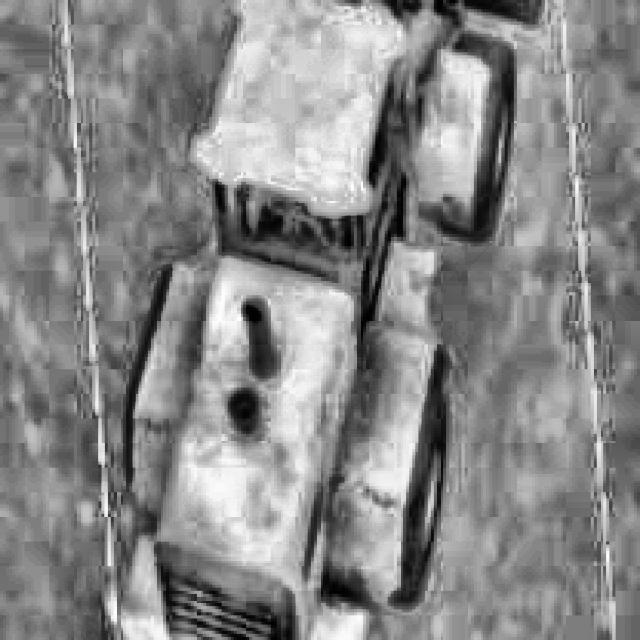buldozerpayloadergrader: (117, 0, 554, 640)
